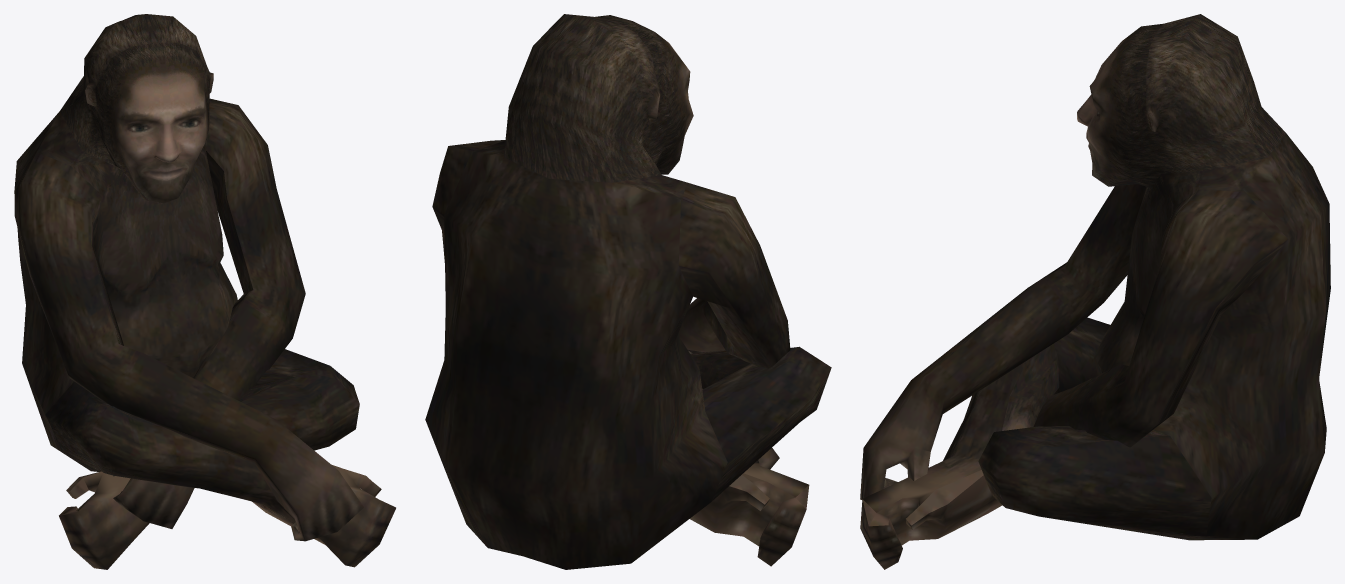
The model's file is apeman.obj.
3 views of the same model, side by side, from view 1: azimuth 30°, elevation 25°; view 2: azimuth 150°, elevation 25°; view 3: azimuth 270°, elevation 25° (orthographic). The views are drawn at different scales.
Visible parts, largest first — view 1: Apeman:default_default1; view 2: Apeman:default_default1; view 3: Apeman:default_default1.
Boxes of the visible parts, left/top/right/bottom form: Apeman:default_default1: left=14, top=14, right=395, bottom=569; Apeman:default_default1: left=425, top=14, right=831, bottom=569; Apeman:default_default1: left=860, top=14, right=1330, bottom=569.
Size of the model in its own units: 1.79 by 3.01 by 2.4.
